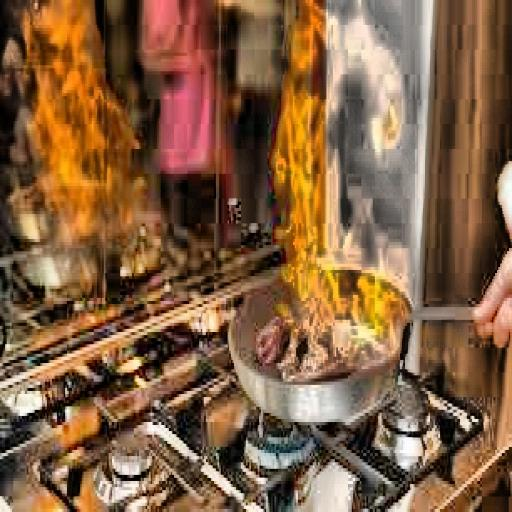fire: (261, 6, 423, 332), (2, 9, 150, 233)
